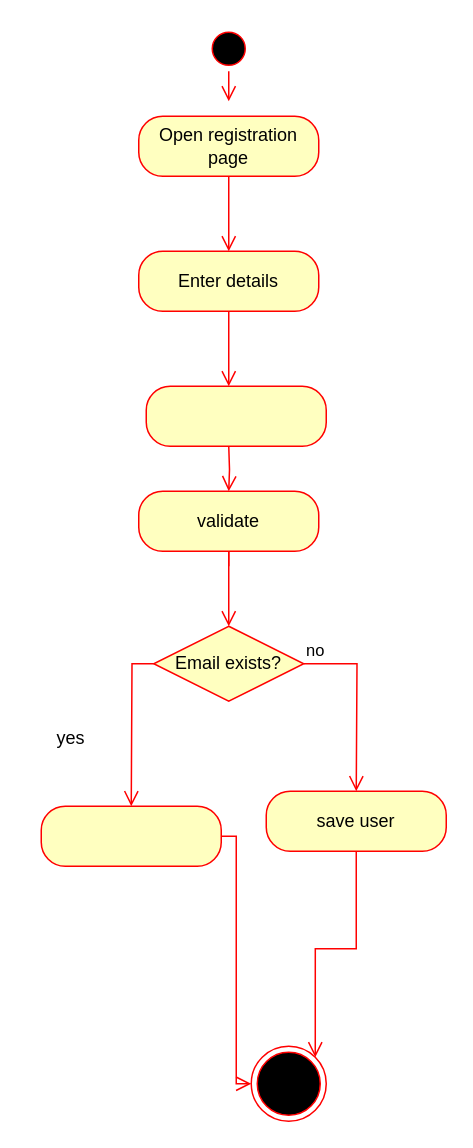
This 473x1148 diagram has some shape labels left out. The box of each missing label's shape, as (x1, y1, x2, y2) in pixels:
show error message: (40, 805, 221, 866)
Submit: (145, 385, 326, 446)
